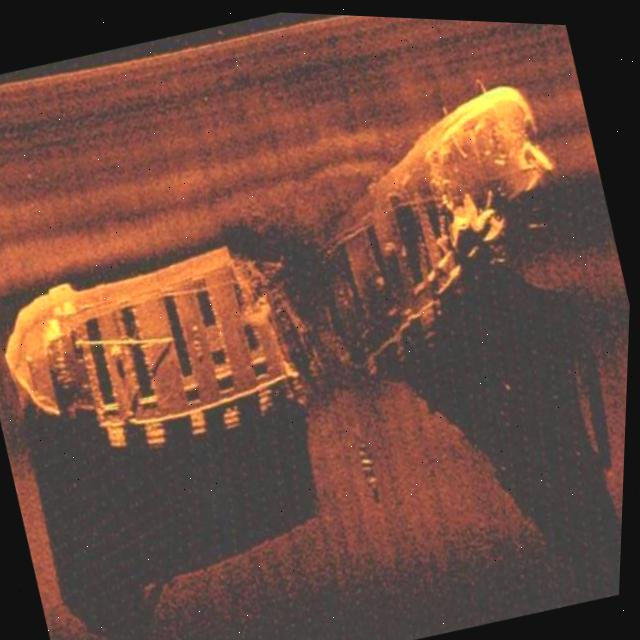shipwreck: (0, 50, 605, 496)
